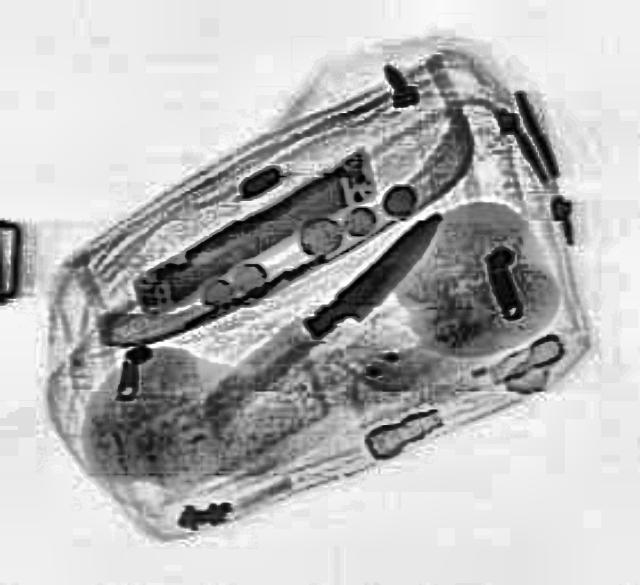Knife: (296, 202, 454, 346)
